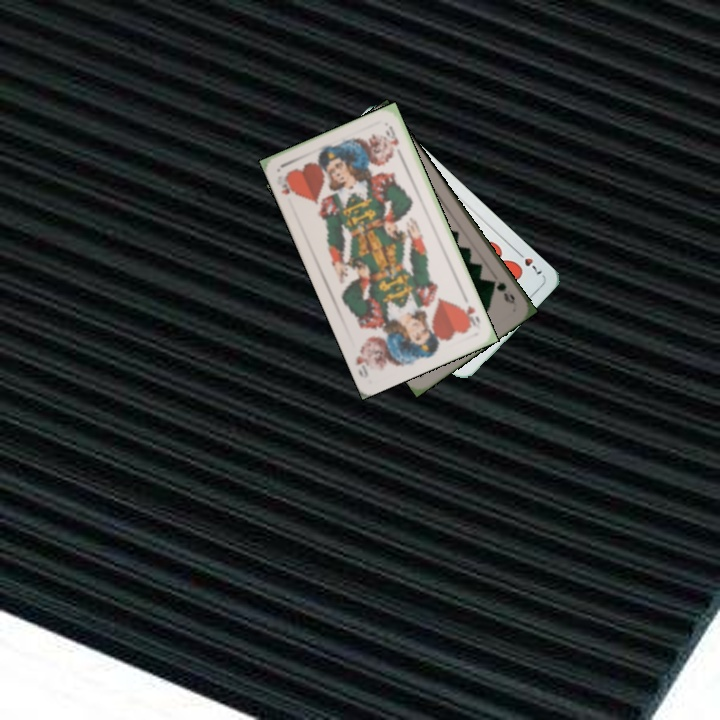G9: (487, 276, 518, 306)
H7: (512, 247, 545, 277)
HO: (459, 302, 483, 330), (277, 169, 299, 198)
